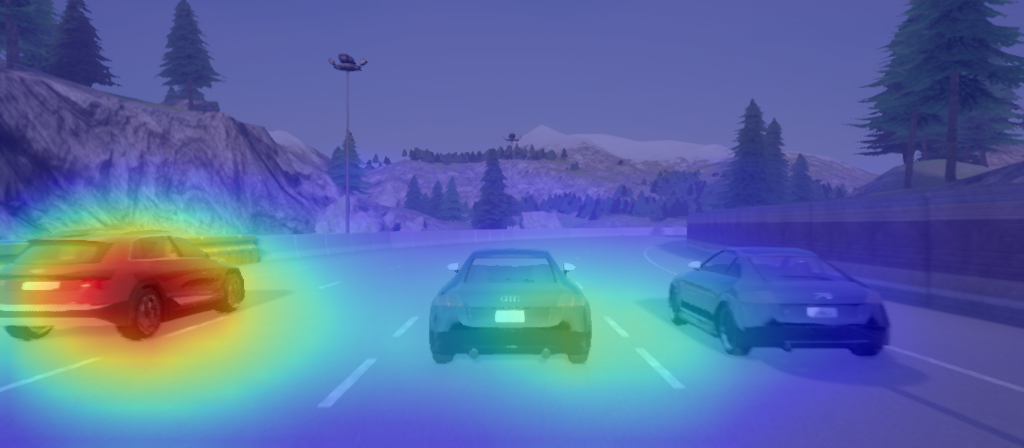Barrier: (842, 210, 1017, 281)
Car: (5, 225, 253, 348), (666, 244, 896, 363), (423, 246, 598, 371)
Lane Marker: (2, 353, 102, 398), (313, 354, 380, 412), (630, 341, 686, 394), (599, 308, 634, 344), (389, 312, 423, 340), (314, 278, 345, 293), (385, 259, 401, 273)
Light Pole: (323, 48, 371, 235)
